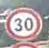limite 30: (2, 6, 43, 40)
